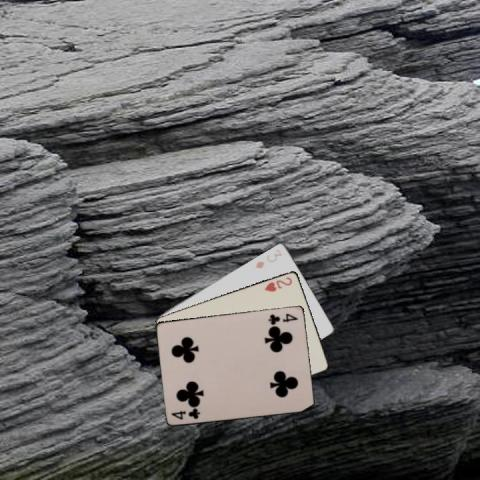2h: (262, 273, 293, 293)
3d: (253, 246, 283, 269)
4c: (169, 405, 201, 421), (266, 310, 300, 325)
